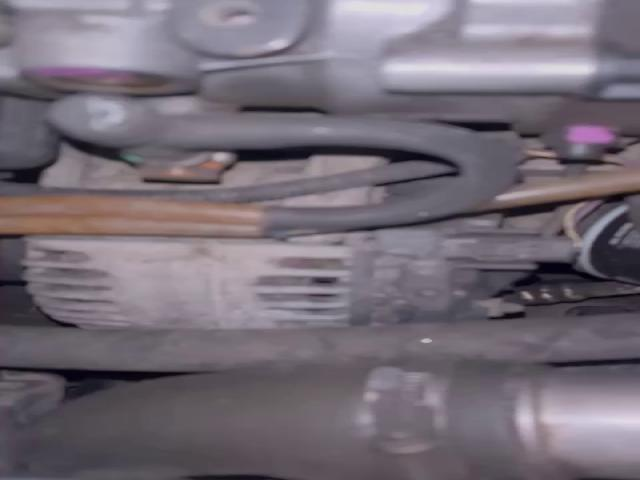alternator: (20, 211, 590, 330)
